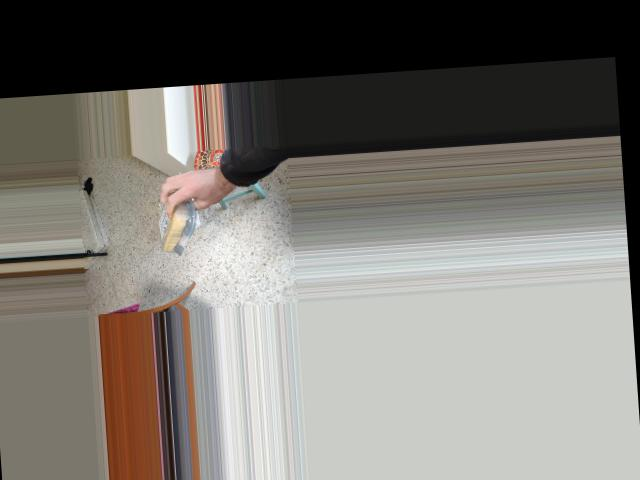cheese: (155, 189, 193, 257)
